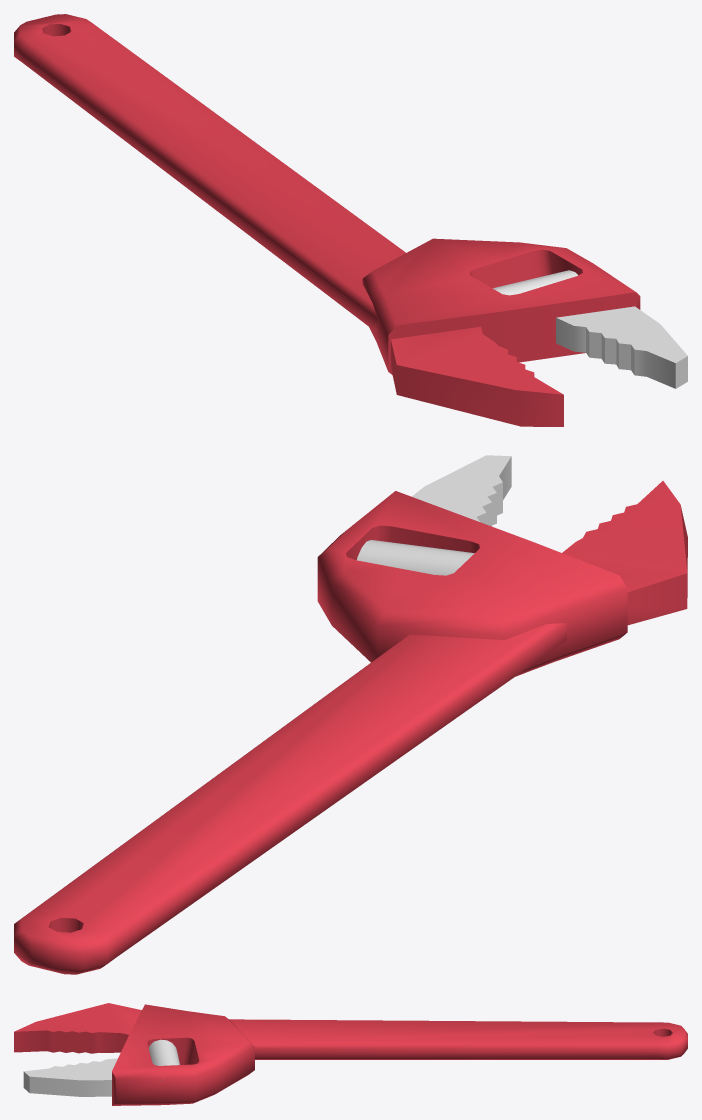
The model's file is M_SPANNER2.fbx.
3 views of the same model, one above another, from view 1: azimuth 30°, elevation 25°; view 2: azimuth 150°, elevation 25°; view 3: azimuth 270°, elevation 25° (orthographic). The views are drawn at different scales.
Visible parts, largest first — view 1: Pipe_Wrench_Handle, Pipe_Wrench_Top, Pipe_Wrench_Wheel; view 2: Pipe_Wrench_Handle, Pipe_Wrench_Top, Pipe_Wrench_Wheel; view 3: Pipe_Wrench_Handle, Pipe_Wrench_Top, Pipe_Wrench_Wheel.
Part boxes in pixels (x1,y1,x2,y2): Pipe_Wrench_Handle: [14, 14, 640, 426]; Pipe_Wrench_Top: [556, 306, 687, 388]; Pipe_Wrench_Wheel: [493, 270, 577, 295]; Pipe_Wrench_Handle: [14, 481, 687, 974]; Pipe_Wrench_Top: [412, 455, 511, 526]; Pipe_Wrench_Wheel: [357, 540, 474, 575]; Pipe_Wrench_Handle: [14, 1003, 687, 1105]; Pipe_Wrench_Top: [23, 1058, 117, 1096]; Pipe_Wrench_Wheel: [148, 1039, 179, 1080].
Size of the model in its own units: 0.1796 by 0.0368 by 0.6514.
